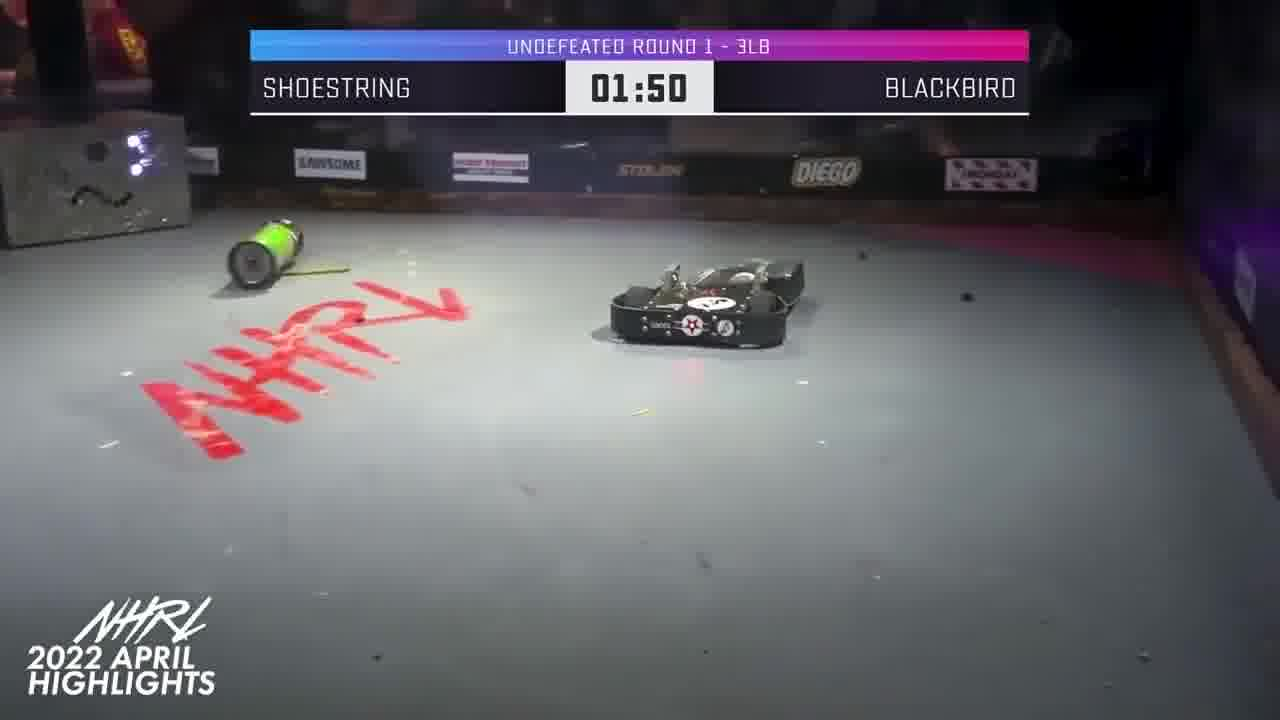combatbot: (609, 263, 809, 350), (225, 217, 305, 289)
housebot: (0, 111, 193, 252)
